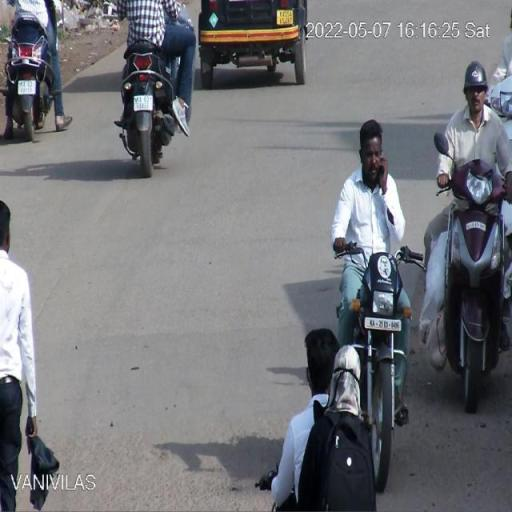numberplate: (364, 314, 402, 332)
using mobile: (379, 146, 387, 196)
